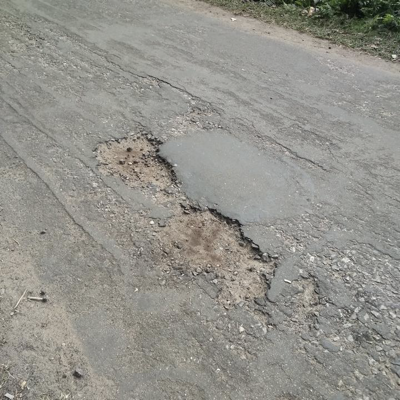pothole: (150, 205, 277, 304), (89, 128, 184, 196), (291, 277, 323, 310)
